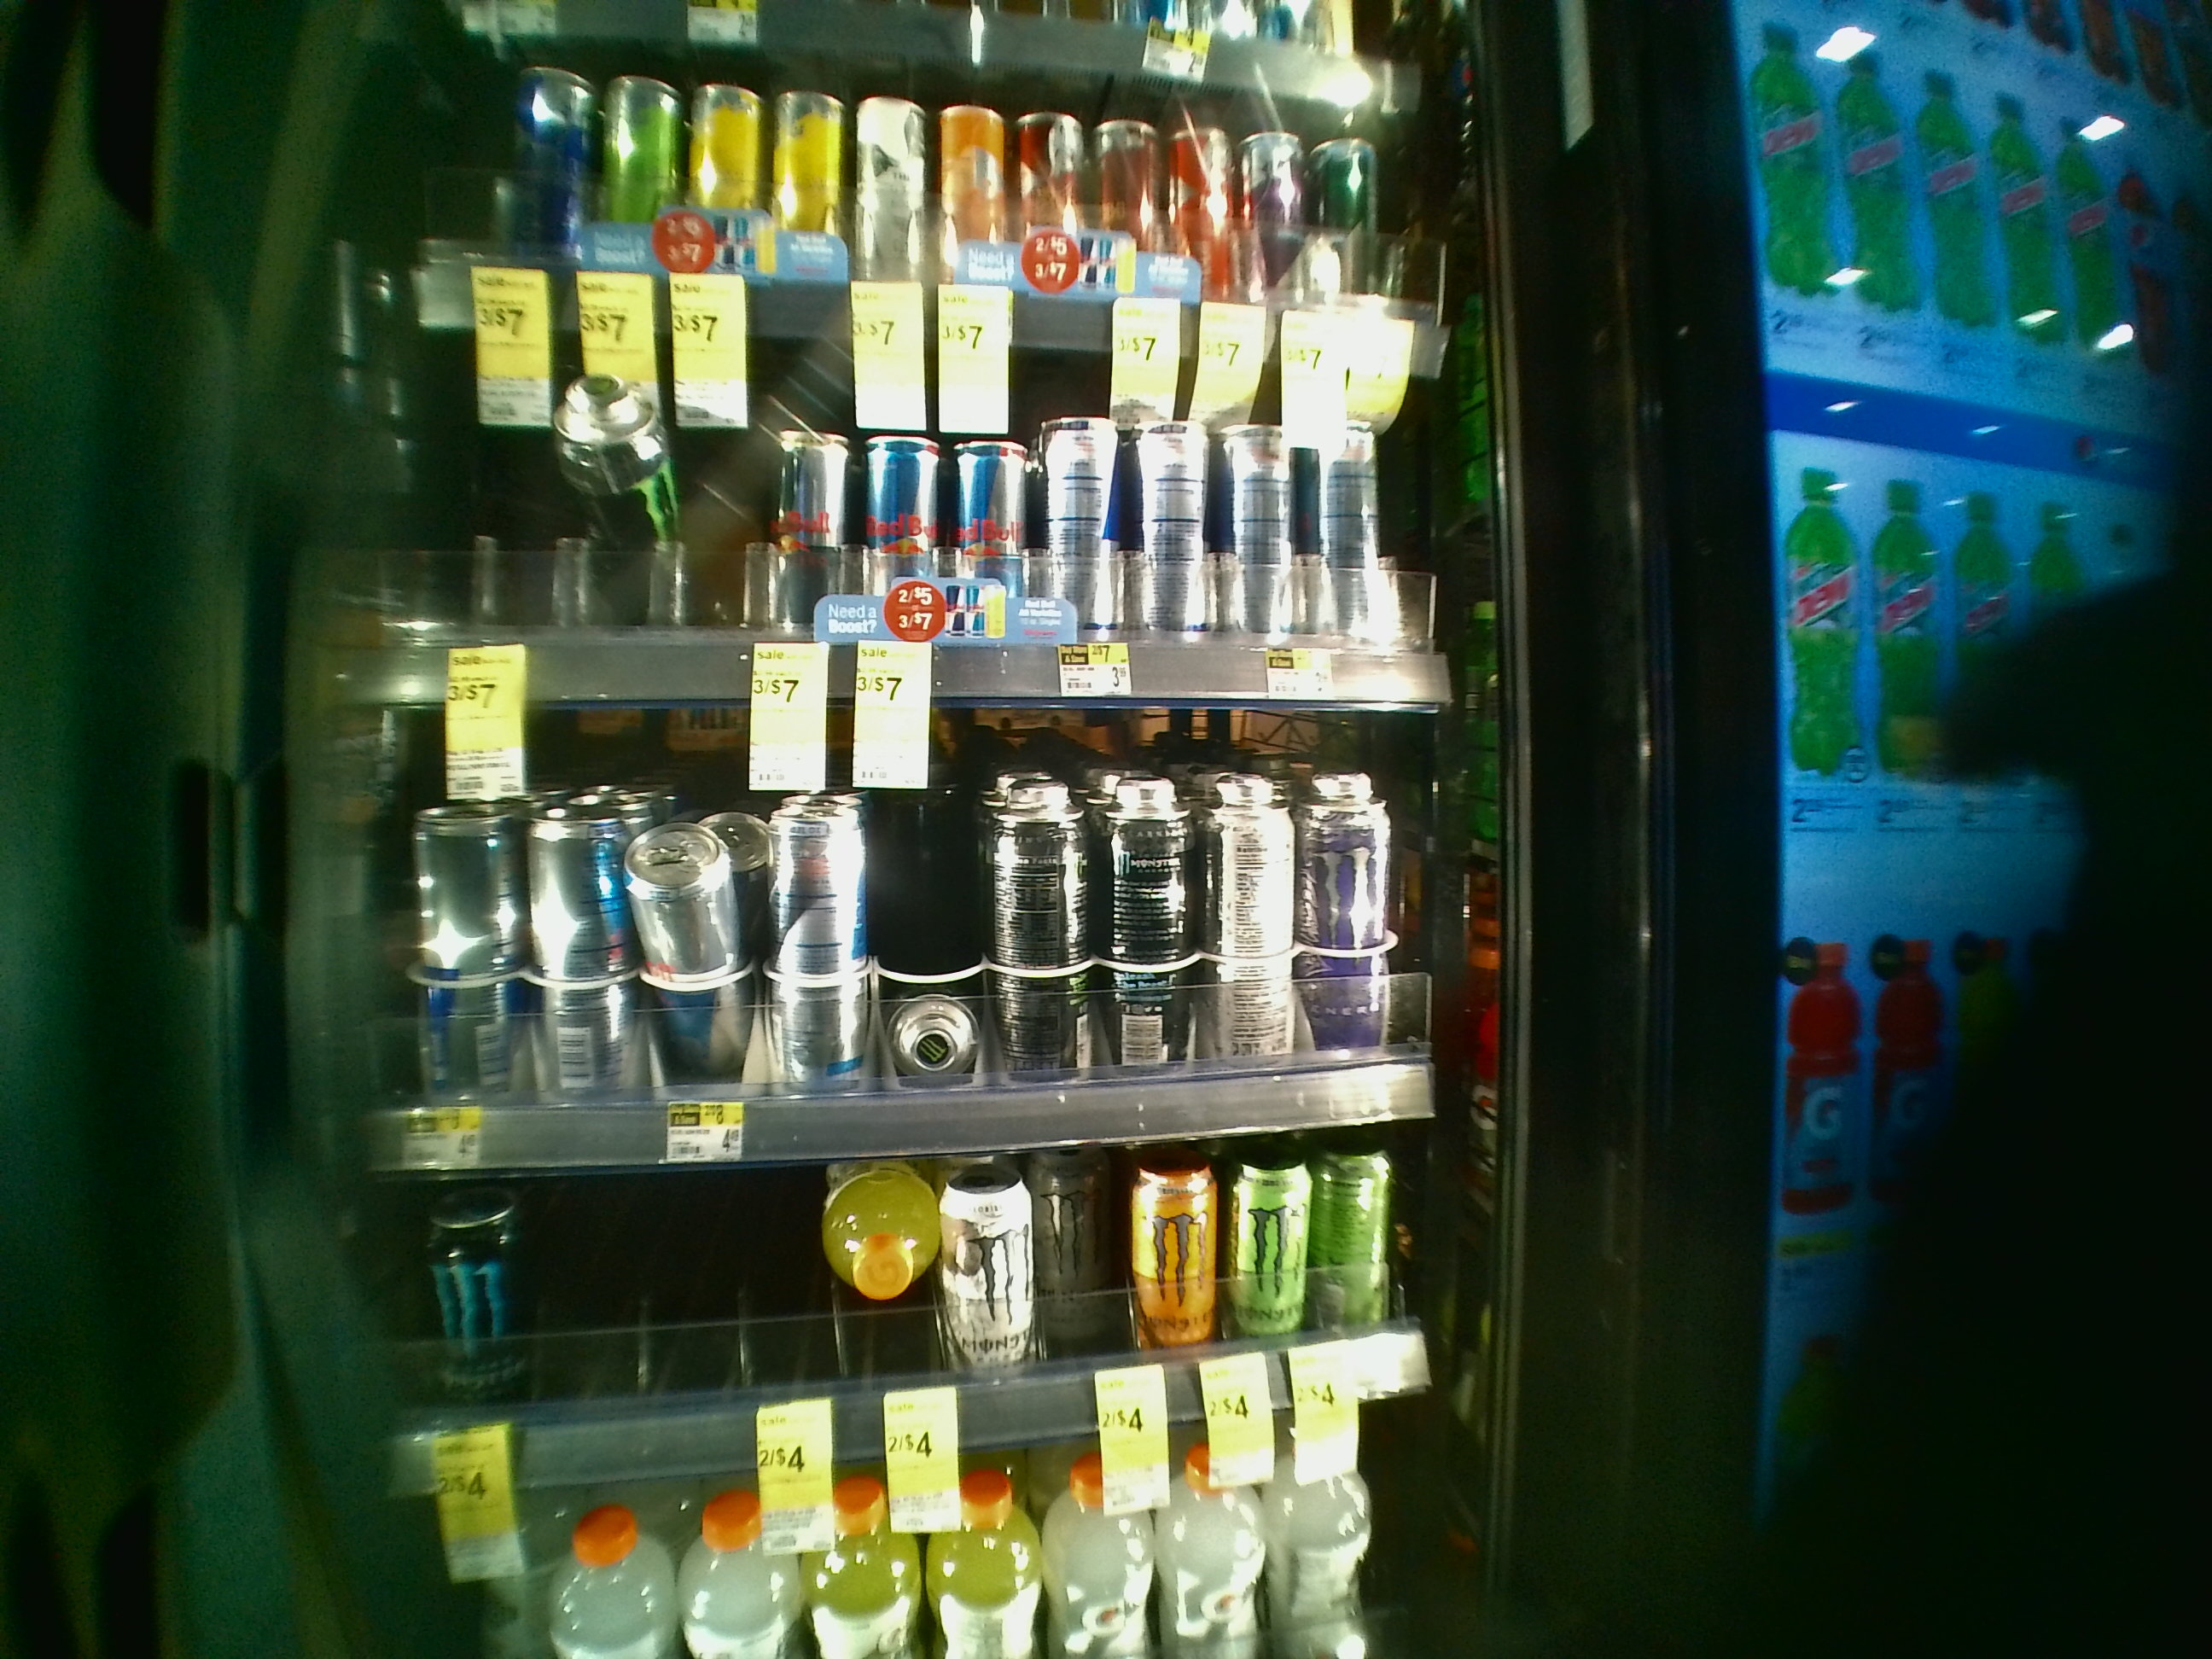shelf: (340, 704, 1507, 1157), (334, 326, 1505, 711)
